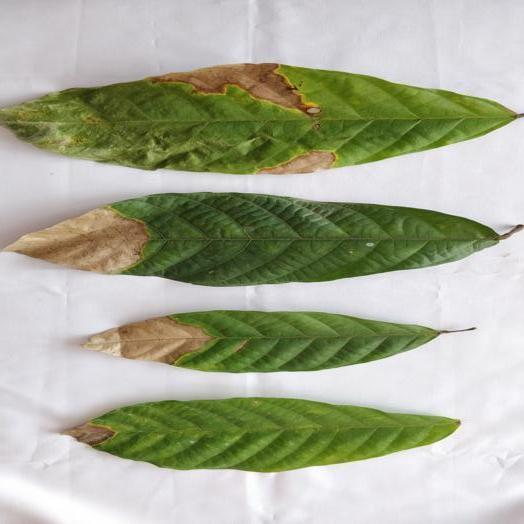Potassium: (0, 63, 517, 173), (6, 193, 523, 286), (84, 310, 449, 371)
